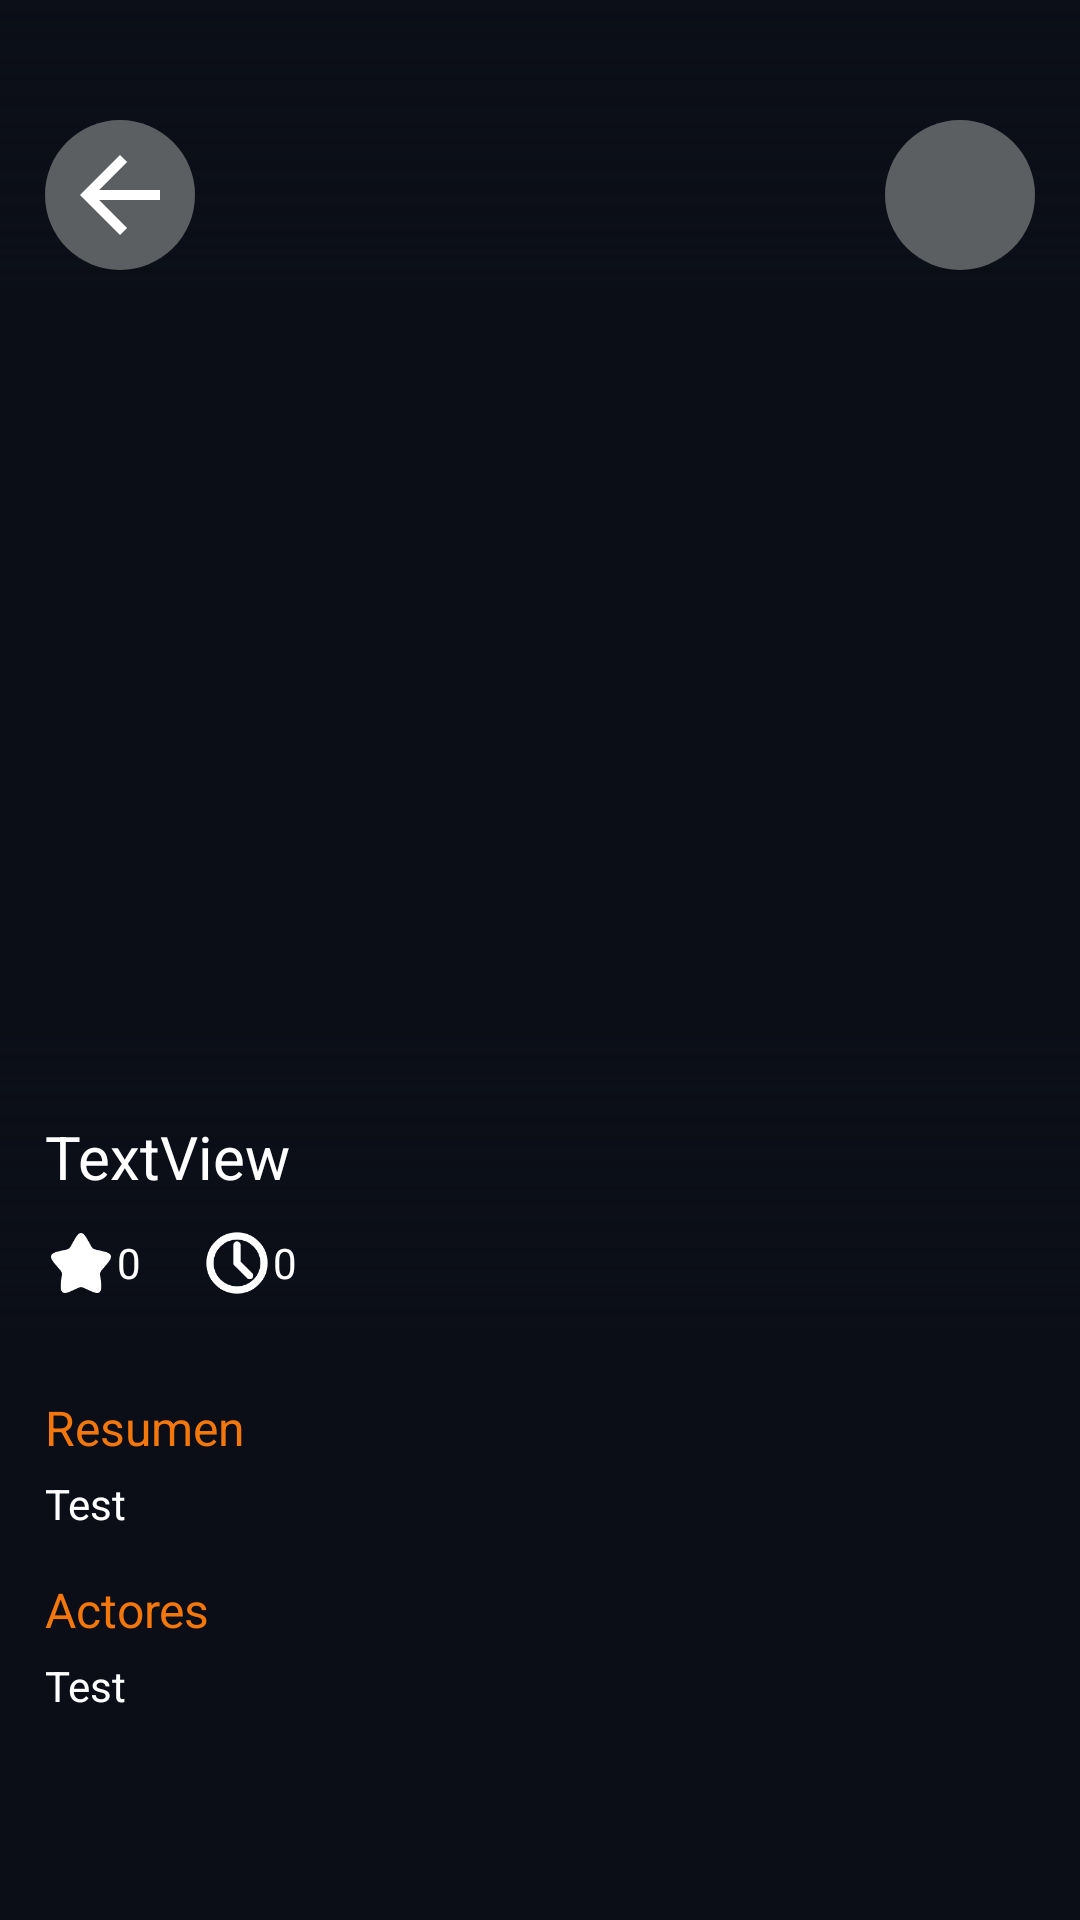

Screen size 1080px×1920px. Icon name, then its center in pixels as point (x, y):
back: point (120, 195)
